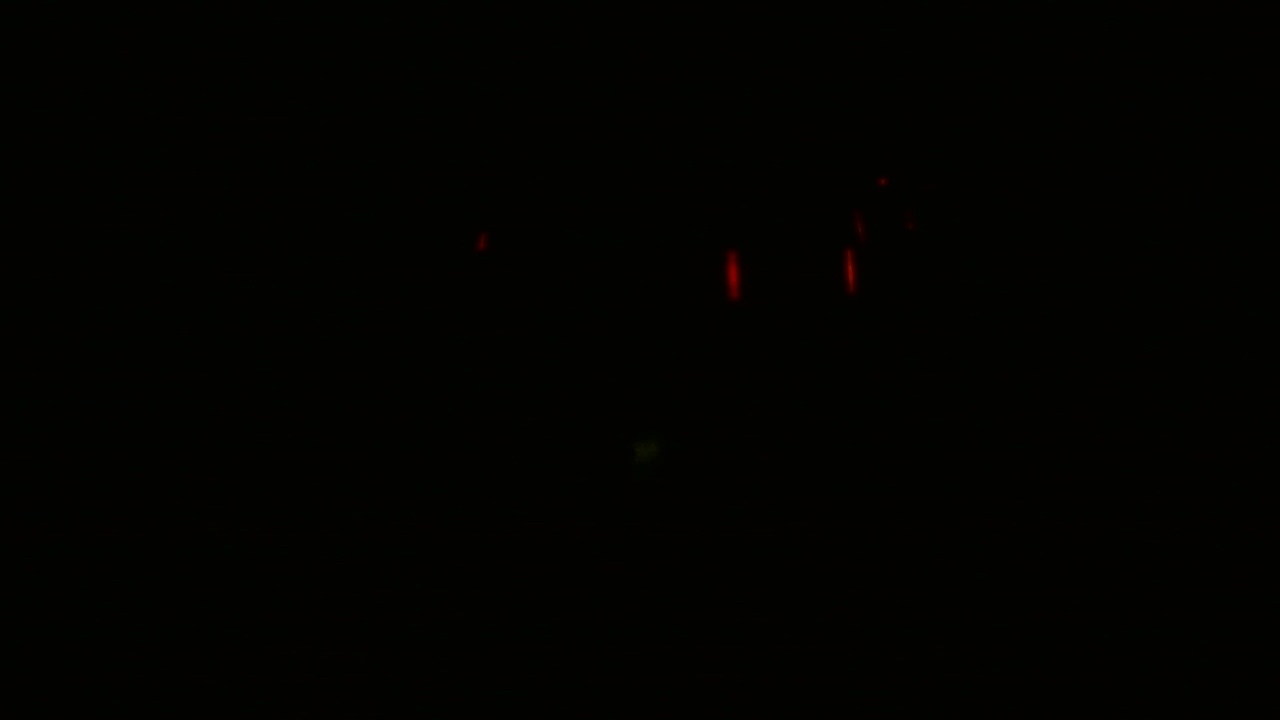pair1: (724, 235, 860, 302)
